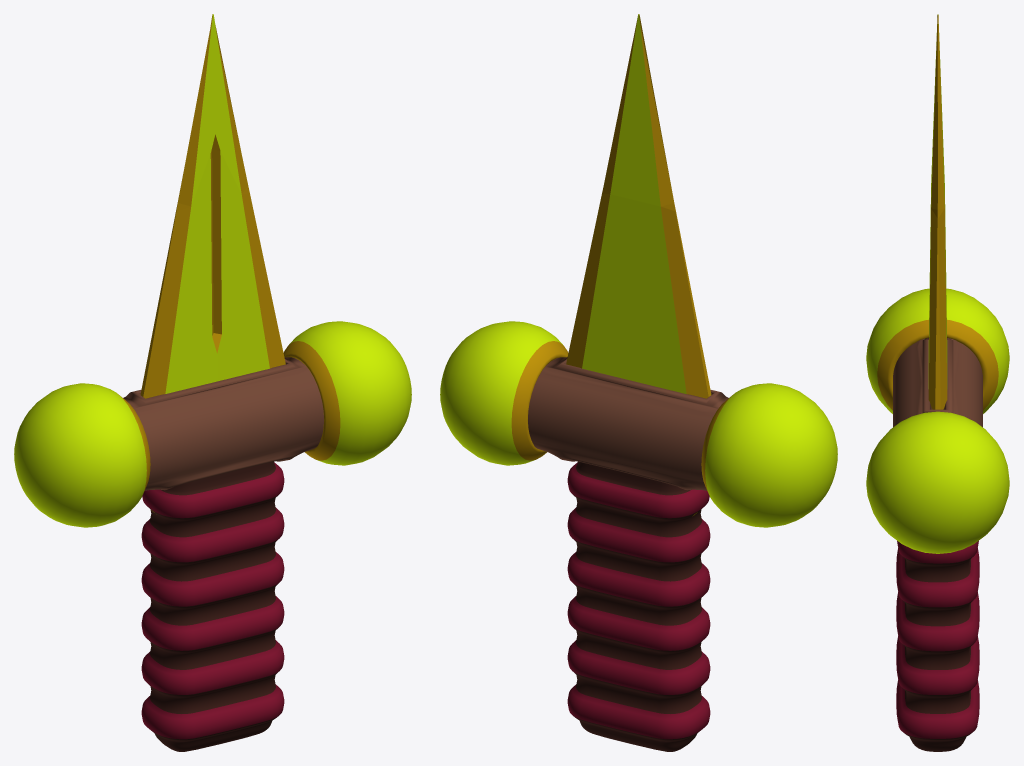
Rendered from dagger.glb.
3 views of the same model, side by side, from view 1: azimuth 30°, elevation 25°; view 2: azimuth 150°, elevation 25°; view 3: azimuth 270°, elevation 25° (orthographic).
Parts seen in each view (by area): view 1: Cube; view 2: Cube; view 3: Cube.
Part boxes in pixels (box(x1,y1,x2,y2)): Cube: box(14, 14, 411, 751); Cube: box(440, 14, 837, 751); Cube: box(866, 14, 1009, 751).
Bounding box in the file's own units: 1.33 × 2.45 × 0.4436.
